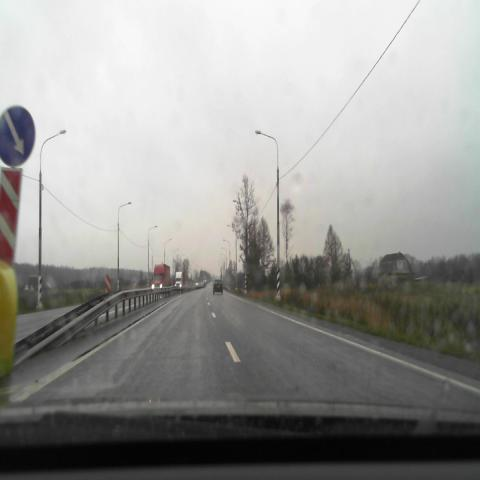4_2_1: (0, 105, 36, 165)
